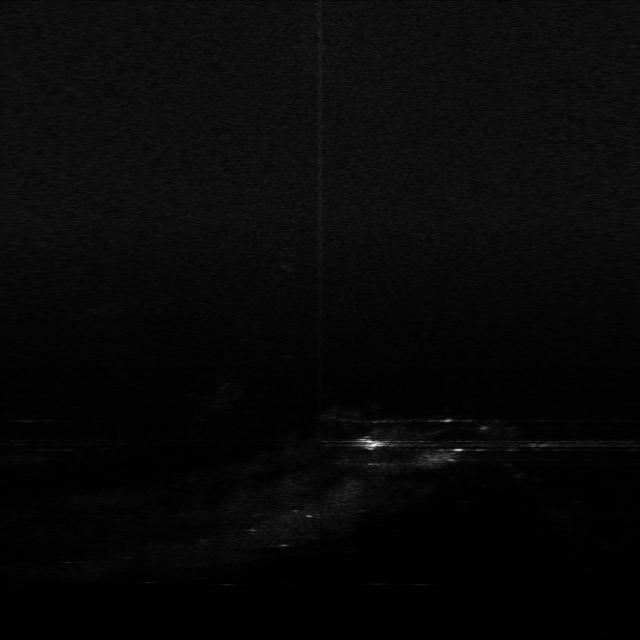rov: (353, 434, 391, 452)
